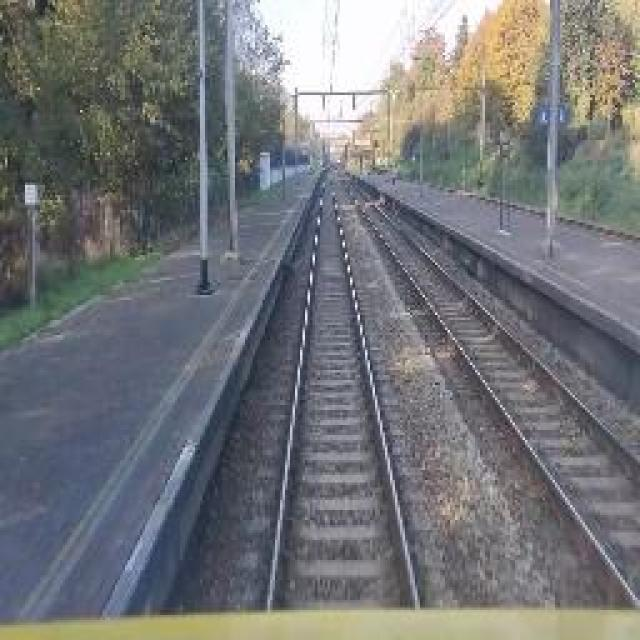rail: (336, 177, 640, 605), (243, 166, 442, 615)
